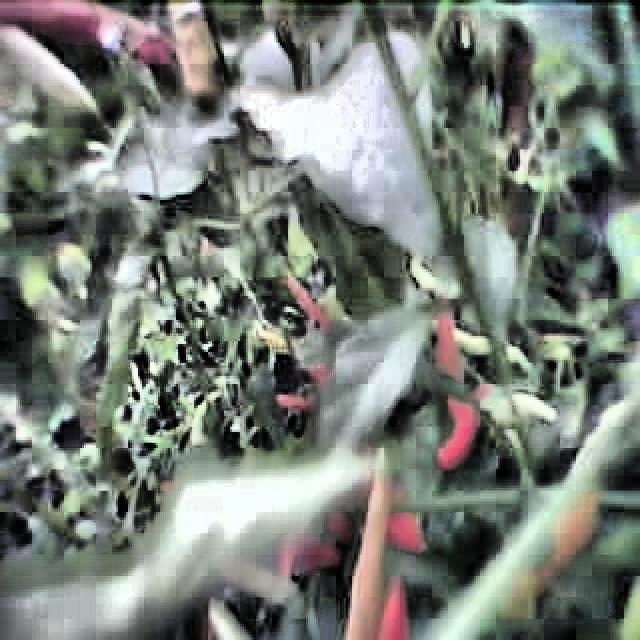Cabai: (9, 0, 195, 88), (432, 390, 487, 489), (356, 453, 382, 640)
